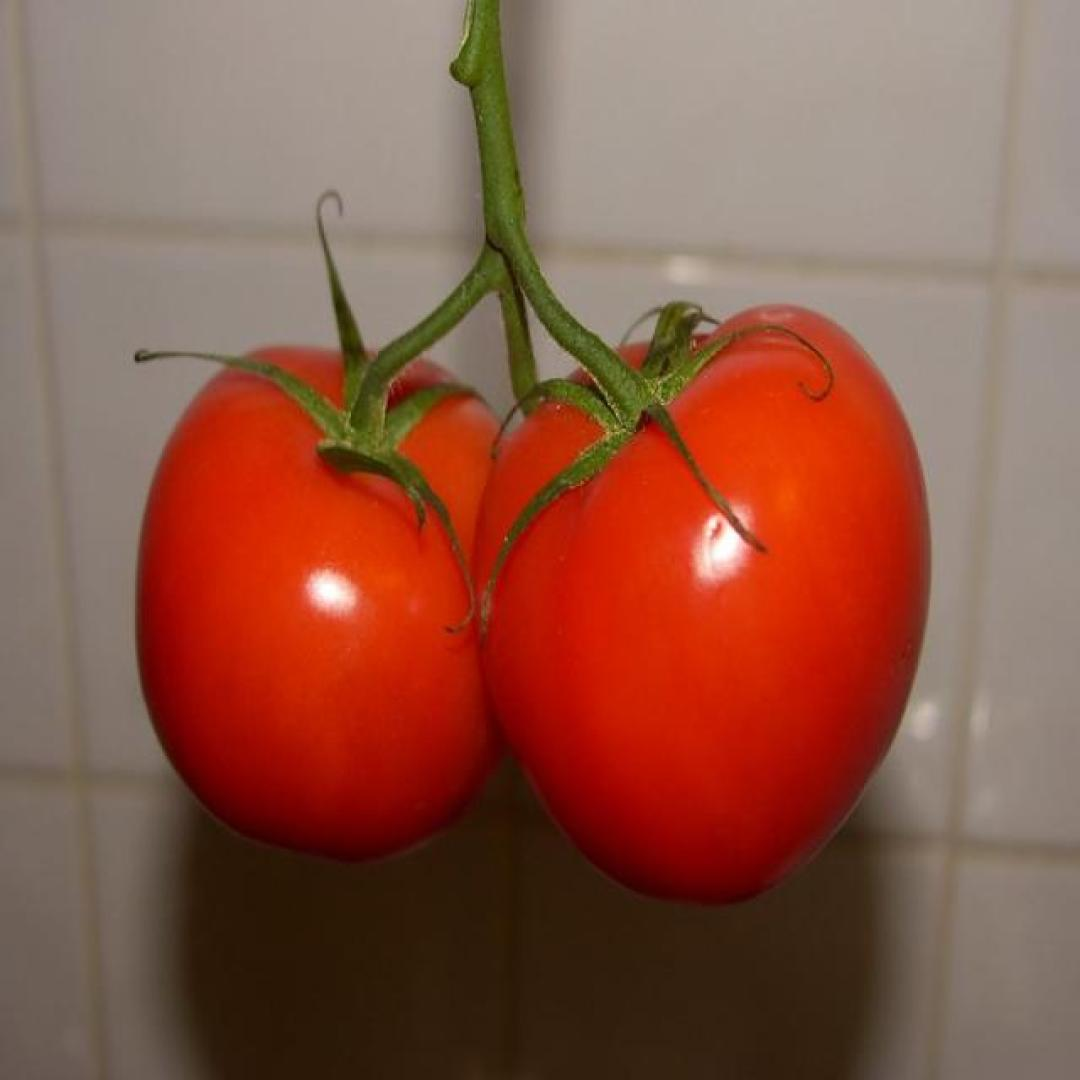matang: (471, 300, 931, 903), (135, 345, 550, 862)
